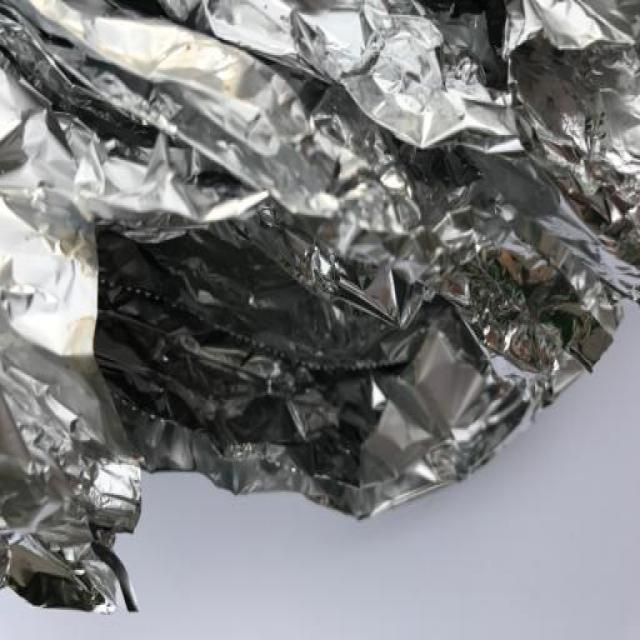others: (2, 1, 640, 638)
